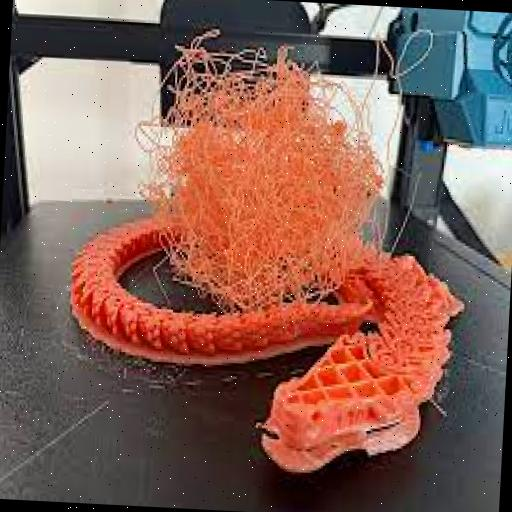spaghetti: (154, 18, 406, 344)
